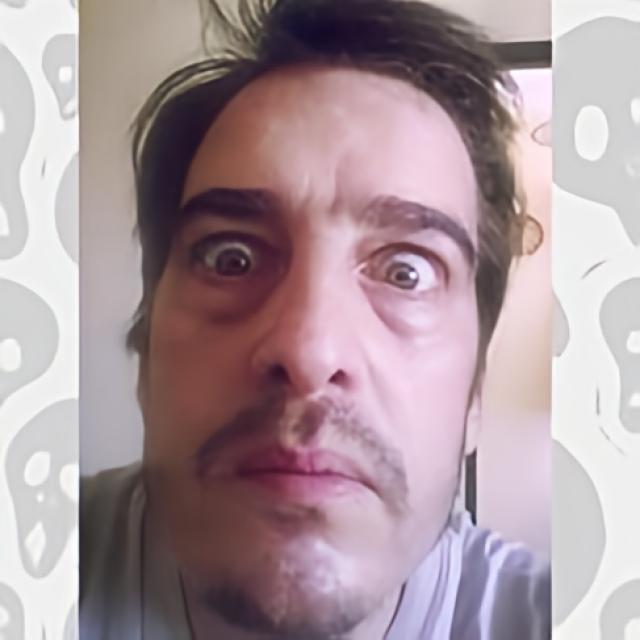fear: (140, 58, 477, 640)
